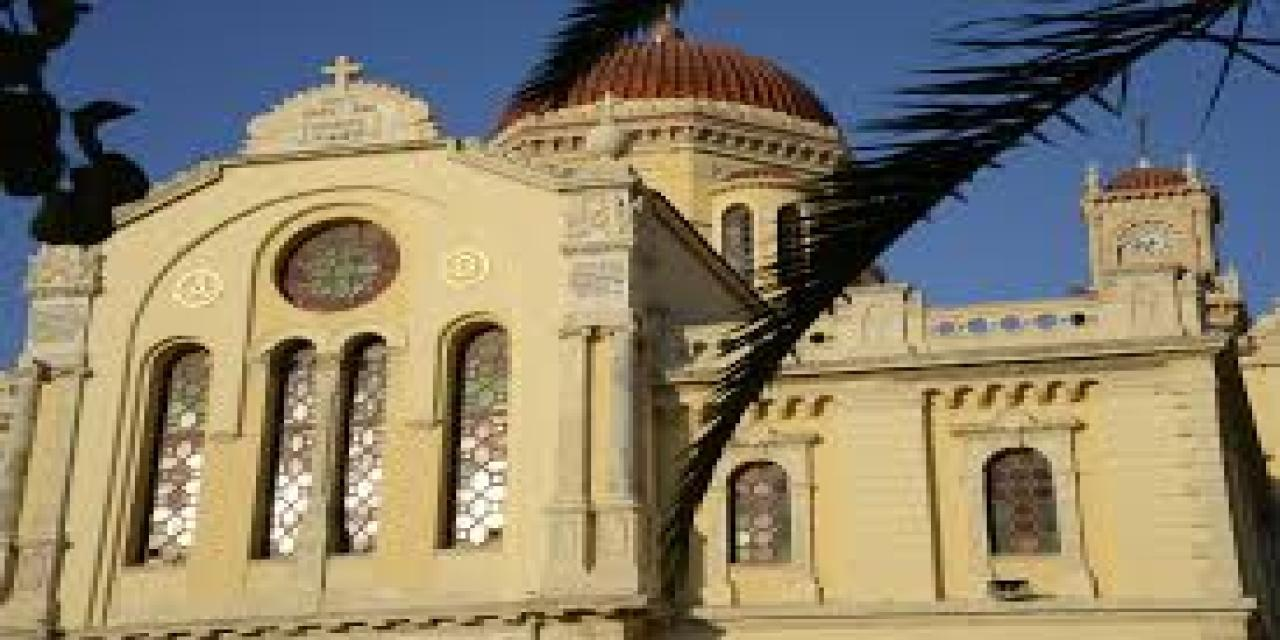Agios Minas: (1, 1, 1280, 640)
